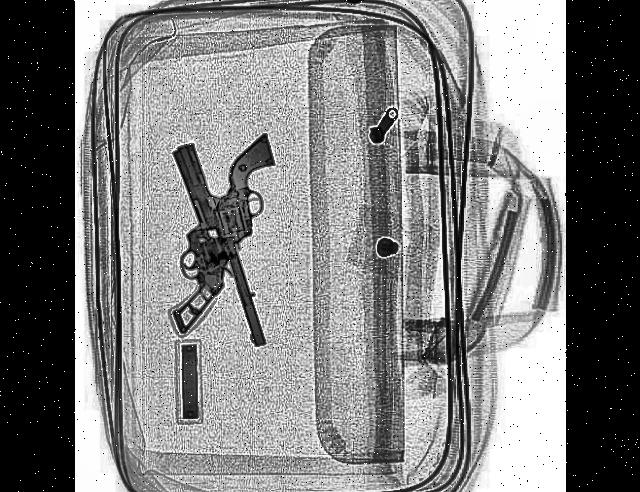Gun: (198, 133, 324, 351), (128, 142, 244, 338)
